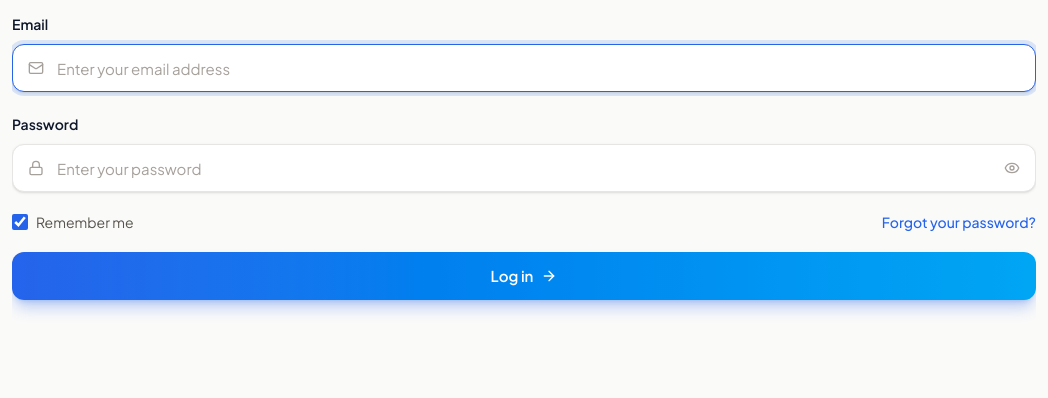
Test: LoginForm › shows the server error, clears the password and refocuses it
The width and height of the screenshot is (1048, 398).
Type "a@b.com" into the field labelled "Email" at (524, 68), box x1=12 y1=44 x2=1036 y2=92
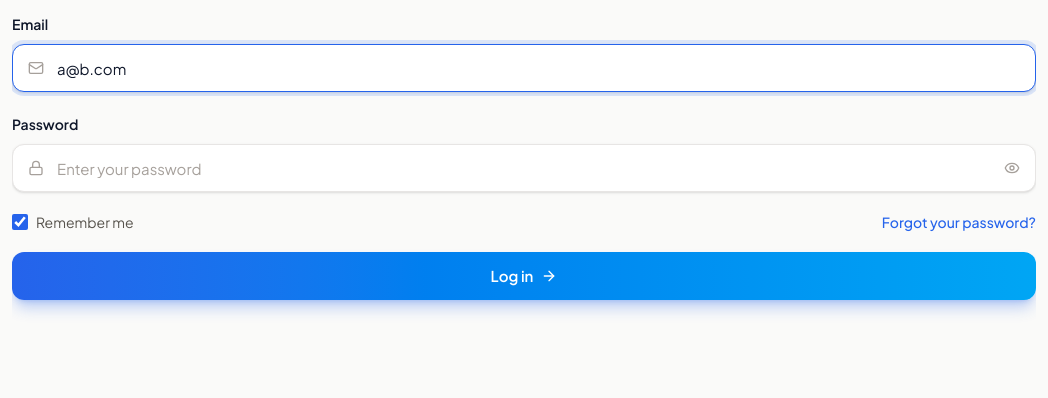
Type "bad" into the password field labelled "Password" at (524, 168), box x1=12 y1=144 x2=1036 y2=192
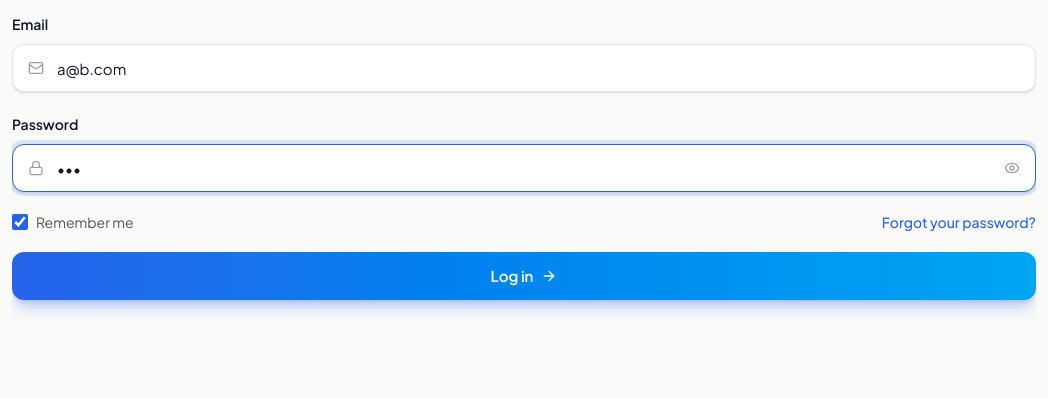
Click the button "Log in" at (524, 276), box x1=12 y1=252 x2=1036 y2=300
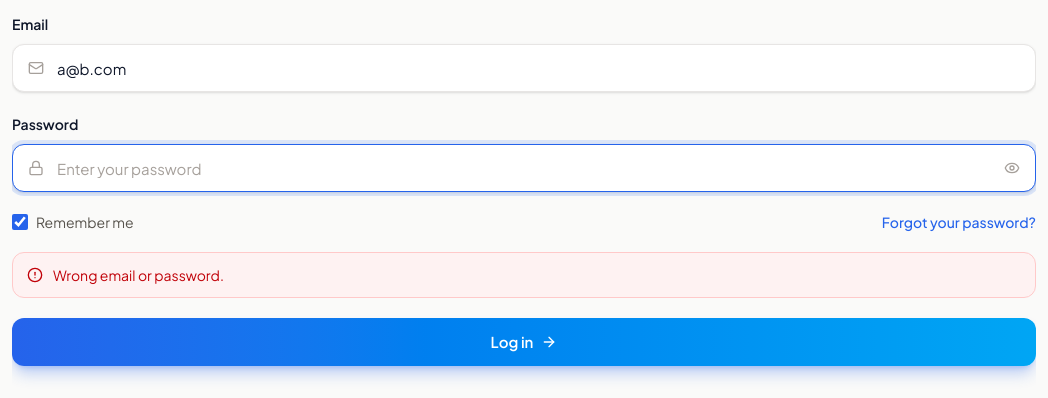
Expected: the button "Log in" is enabled, x1=12 y1=318 x2=1036 y2=366
Expected: the message reads "Wrong email or password.", x1=53 y1=266 x2=224 y2=284
Expected: the password field labelled "Password" is empty, x1=12 y1=144 x2=1036 y2=192
